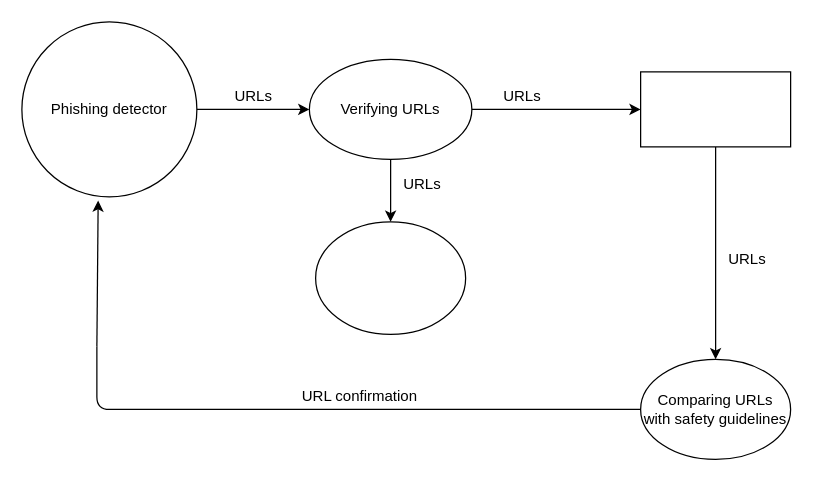
Some shapes in this 813 by 481 pixel diagram are drawn without their labels. The centre of each missing label's shape, as x and y in pixels:
Safety guidelines database: the point at 715,109
Send feedback to Phishing detector: the point at 390,277
